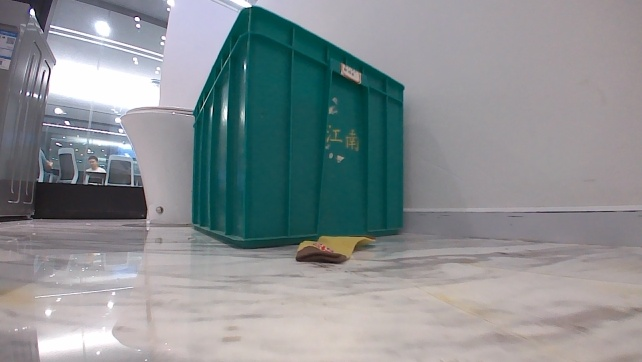socks: (294, 231, 379, 267)
toilet: (118, 101, 199, 228)
washing_machine1: (0, 0, 58, 223)
